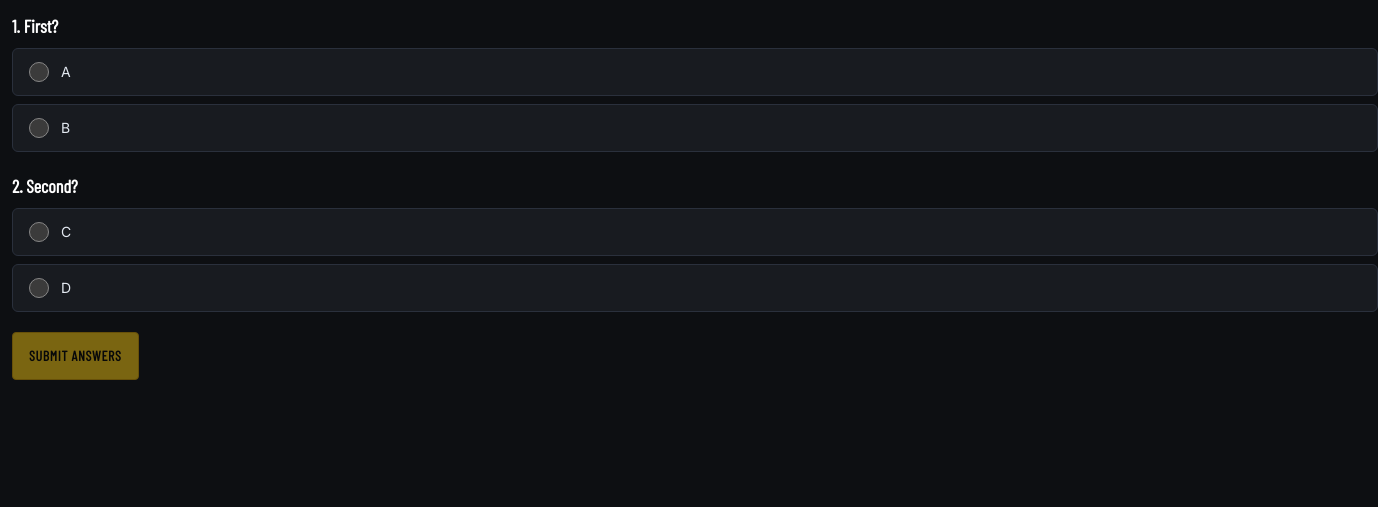
Test: QuizForm › submits only when every question is answered and shows the result
Click the radio button labelled "B".
click(39, 128)  # box [29, 118, 49, 138]
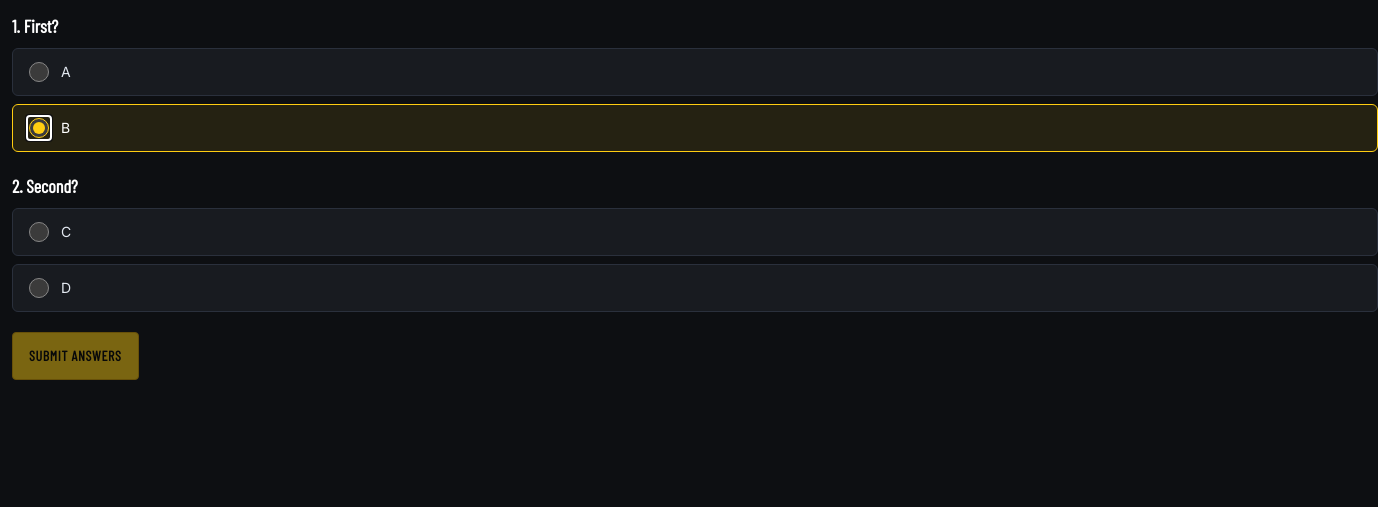
Expected: the button "Submit answers" is disabled, [12, 332, 139, 380]
Click the radio button labelled "D".
click(39, 288)  # box [29, 278, 49, 298]
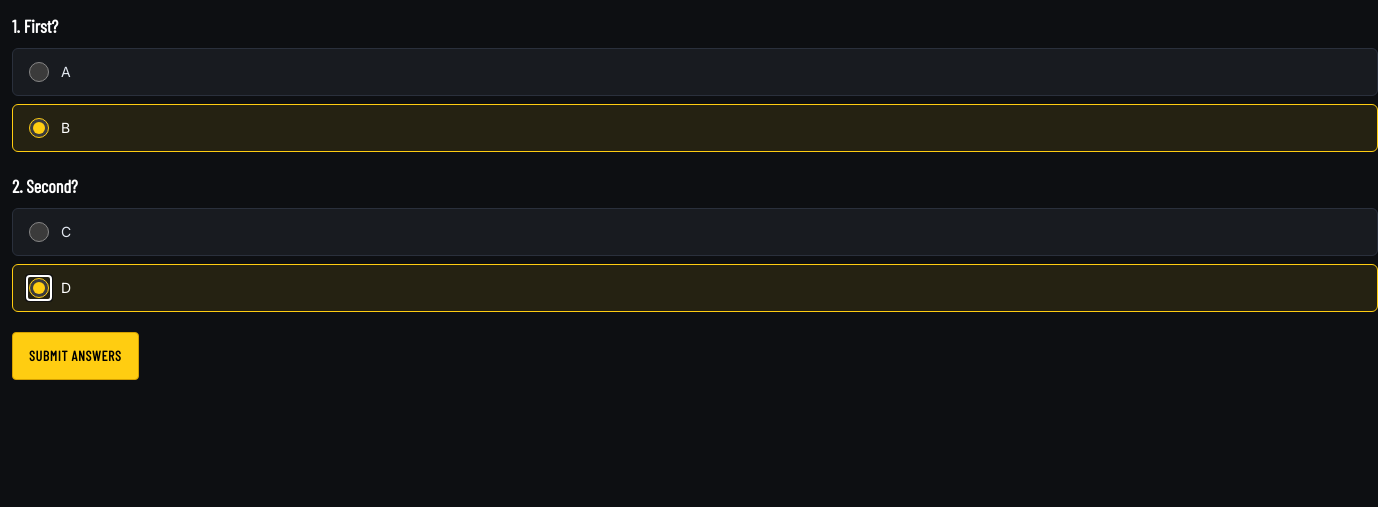
Click the button "Submit answers".
click(75, 356)  # box [12, 332, 139, 380]
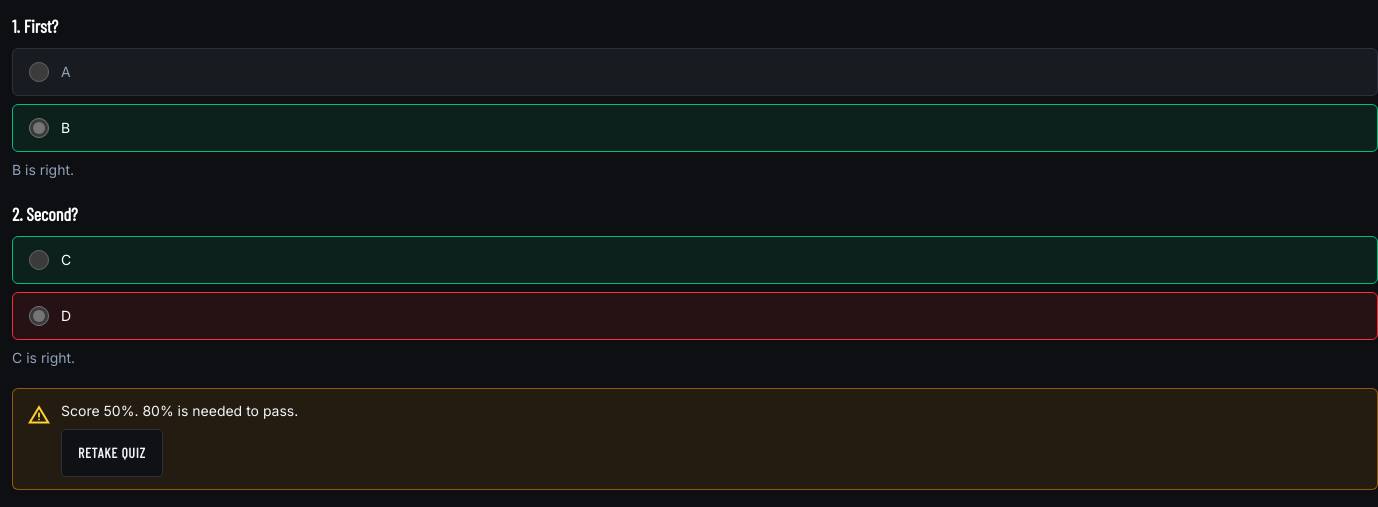
Expected: the text "Score 50%. 80% is needed to pass." is shown, [61, 402, 298, 419]
Expected: the text "C is right." is shown, [12, 349, 75, 366]
Expected: the button "Retake quiz" is shown, [61, 429, 163, 477]
